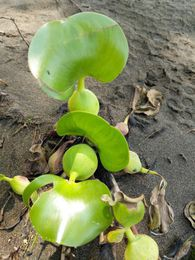water_hyacinth: (0, 6, 169, 260)
